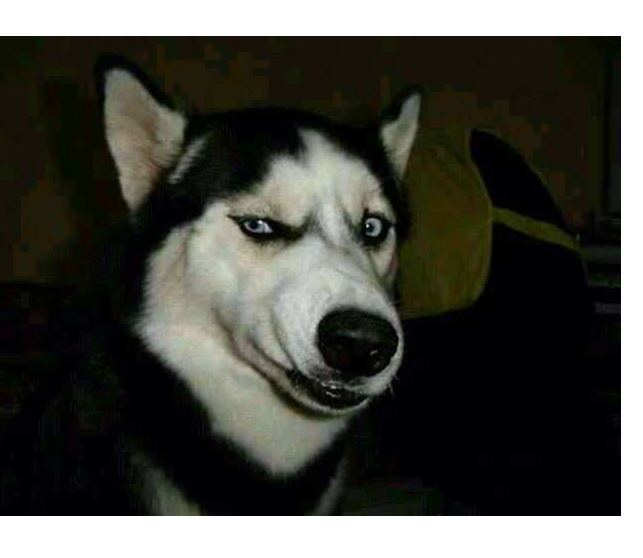nose: (317, 303, 408, 380)
